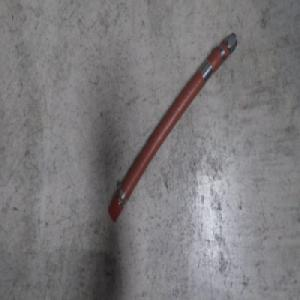Hose: (107, 27, 239, 223)
